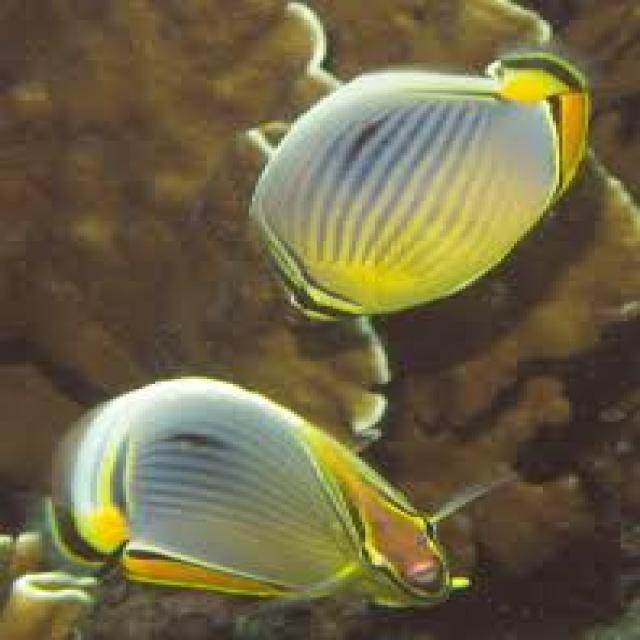ButterflyFish: (162, 20, 612, 331), (17, 374, 536, 622)
